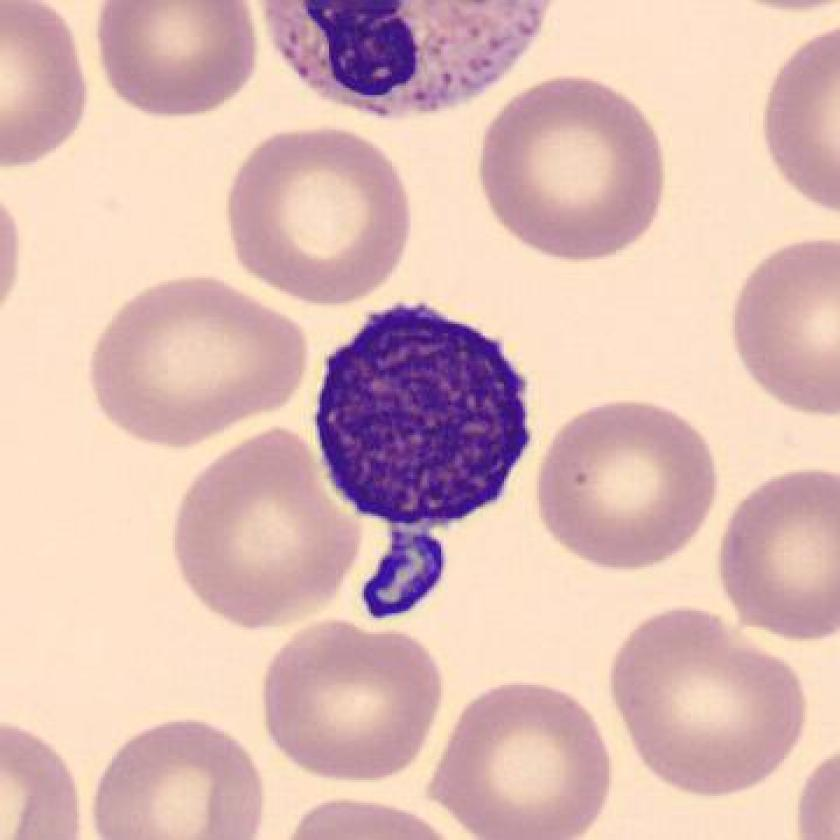lymphocyte: (295, 293, 547, 633)
